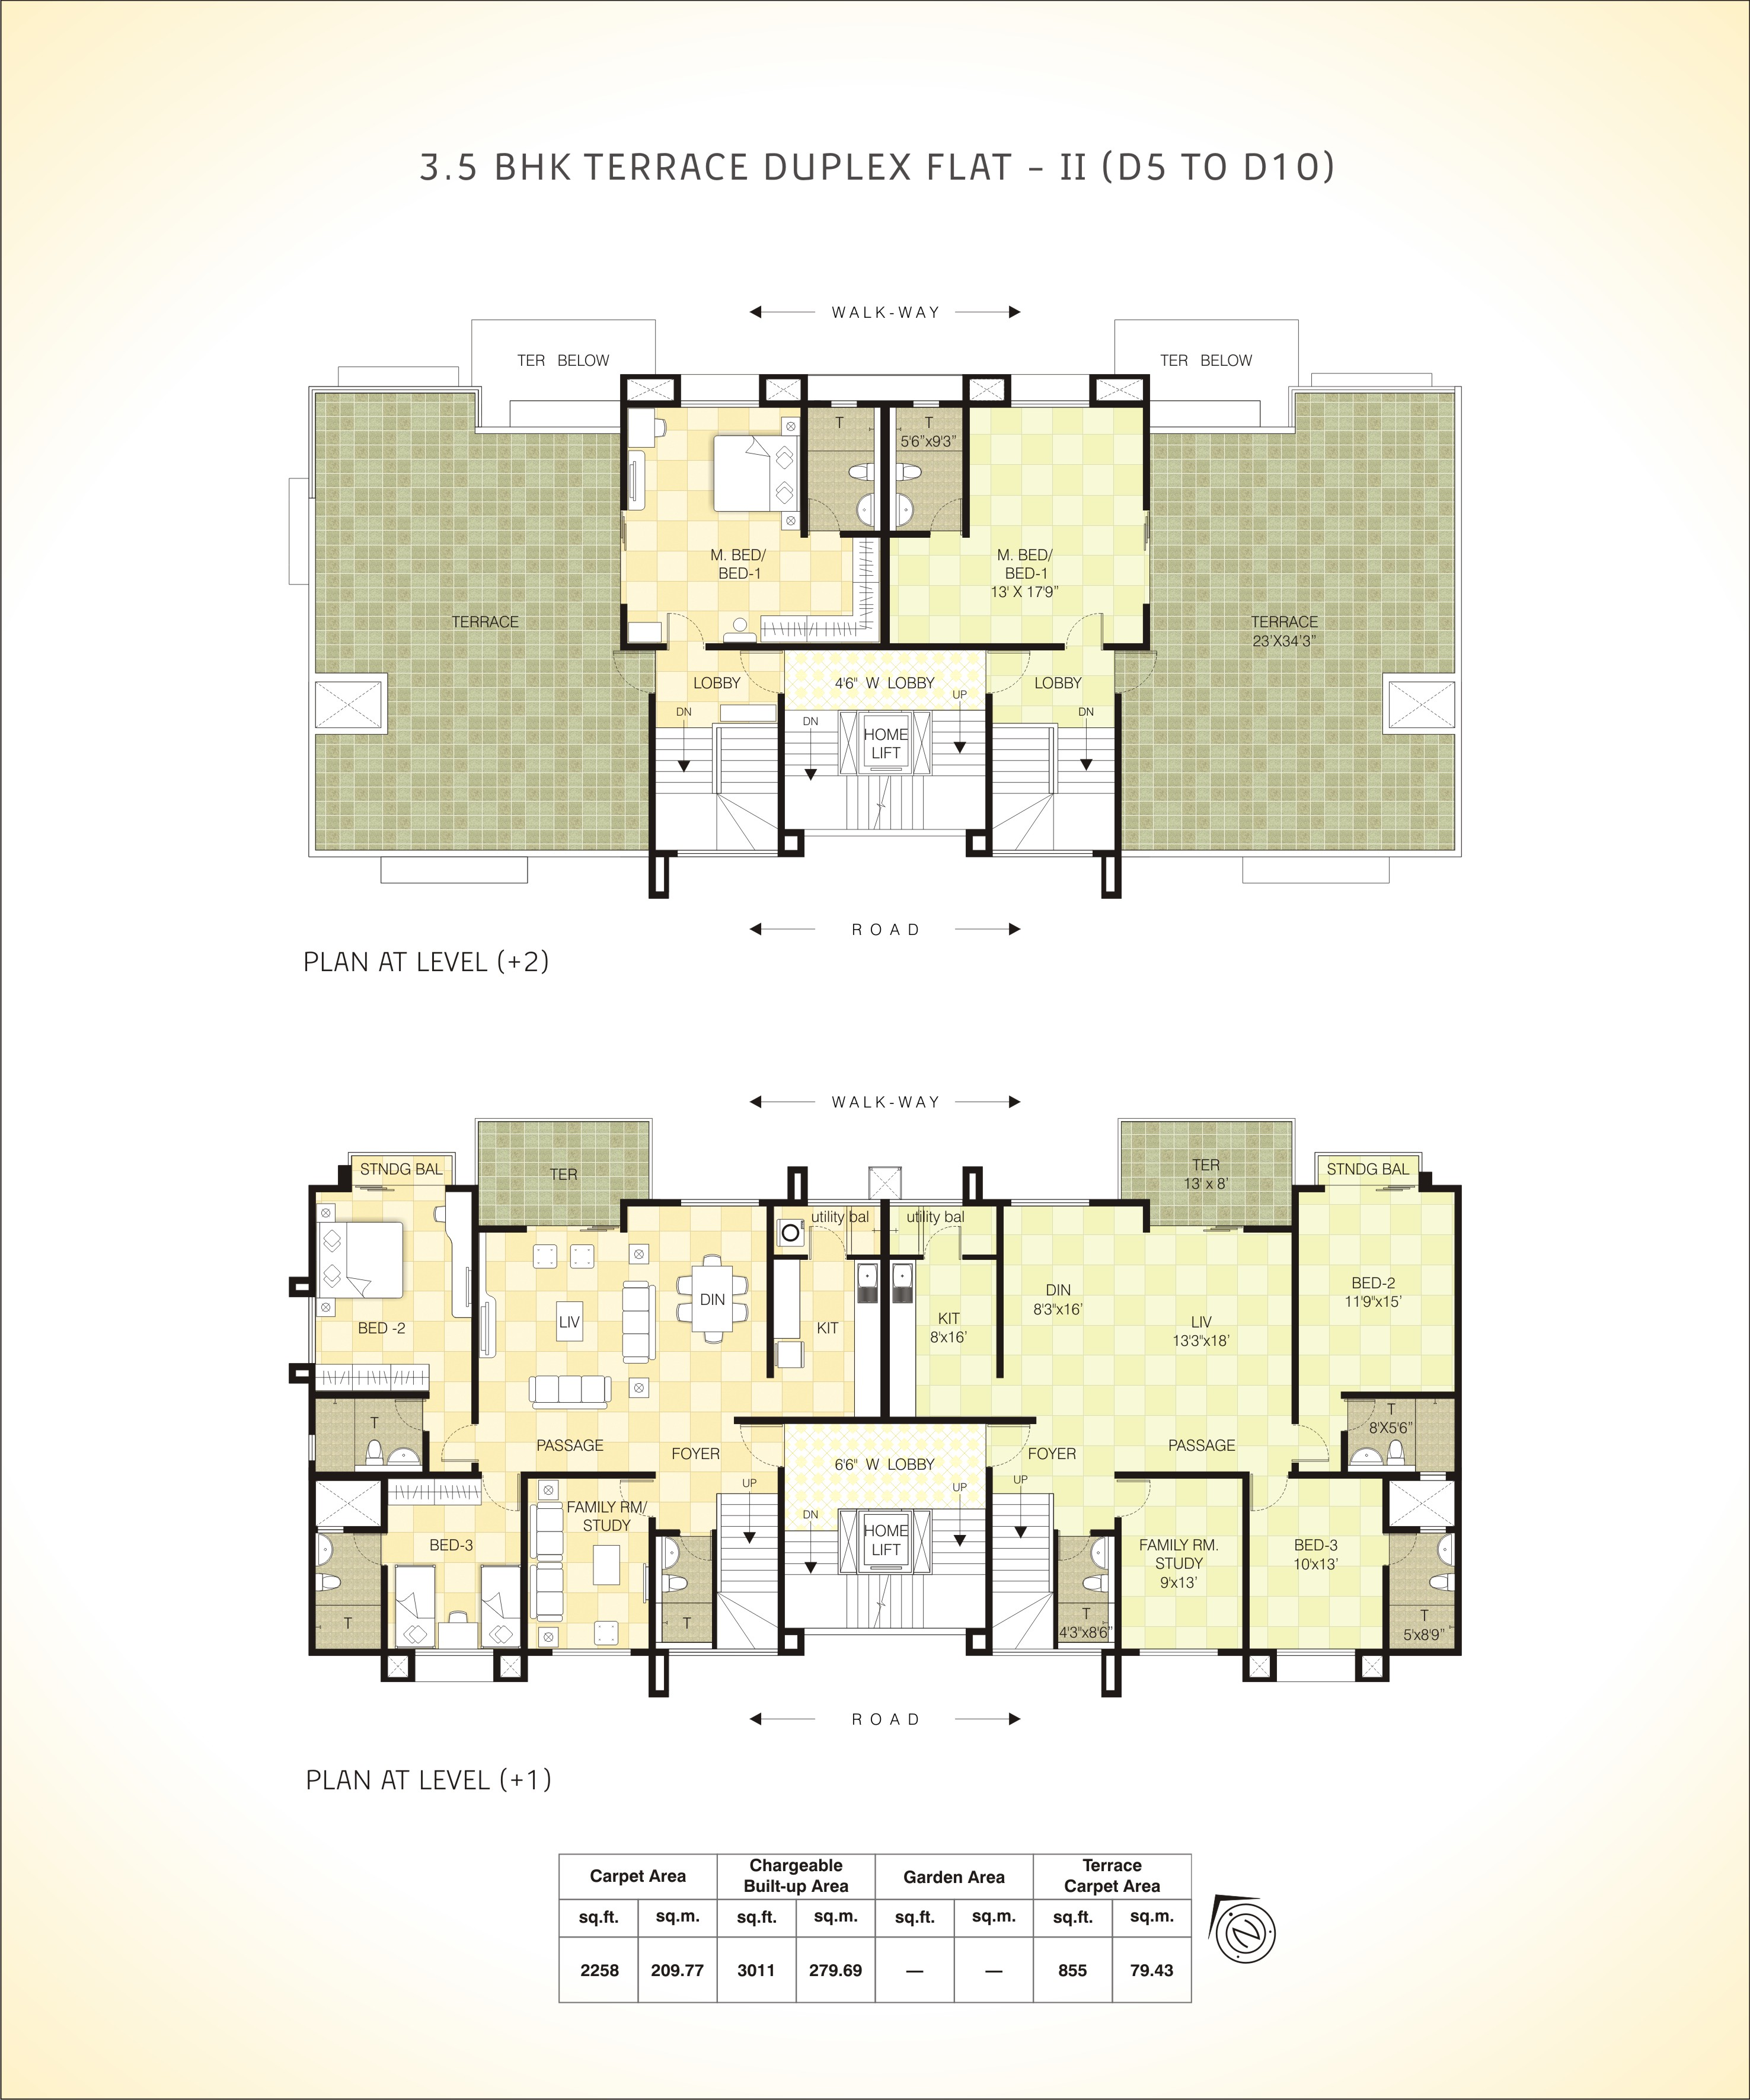window: (667, 1647, 782, 1664), (989, 848, 1097, 862), (675, 848, 782, 862), (989, 1647, 1103, 1659), (412, 1645, 496, 1660), (546, 1645, 630, 1660), (1272, 1647, 1359, 1660), (1138, 1647, 1223, 1660), (679, 398, 761, 412), (1008, 398, 1090, 412), (1008, 1197, 1090, 1210), (677, 1197, 764, 1209), (305, 1294, 319, 1367), (804, 1197, 883, 1209), (886, 1197, 965, 1209), (316, 1523, 345, 1540), (907, 398, 942, 412), (827, 399, 862, 412), (305, 1434, 318, 1469), (1418, 1524, 1446, 1535), (1418, 1470, 1446, 1481)
